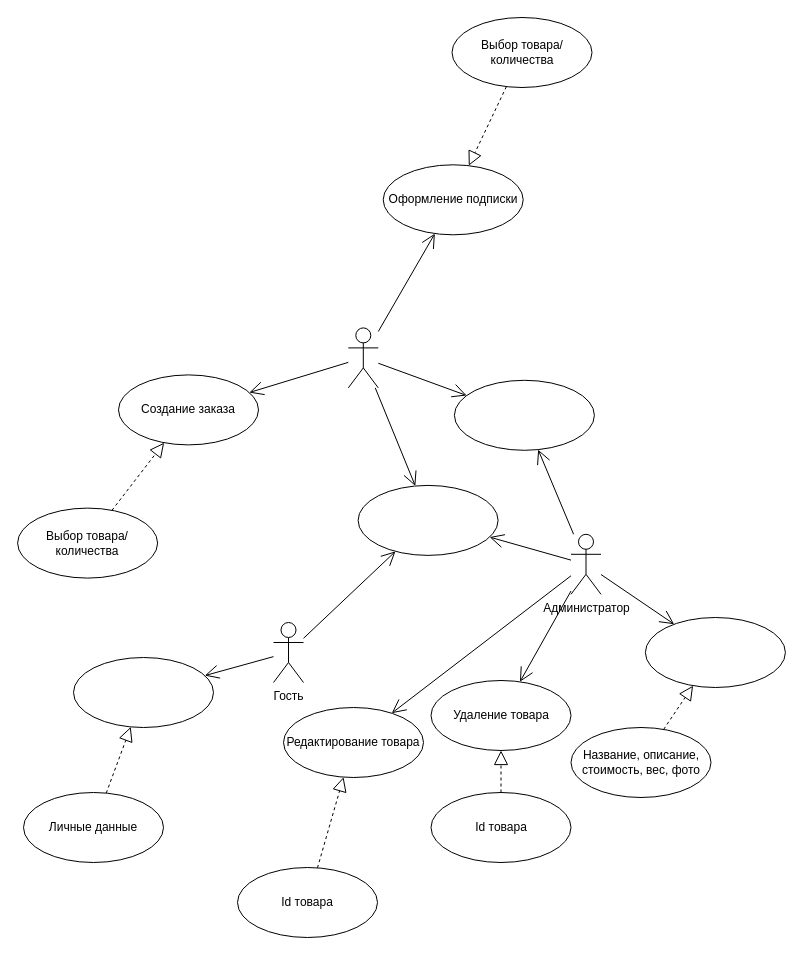
Some shapes in this 803 by 955 pixel diagram are drawn without their labels. Here are the shapes that lost their labels. From the top down, the box of each, then its label:
(347, 327, 378, 388): Клиент
(453, 379, 594, 450): Авторизация
(357, 484, 498, 555): Просмотр товаров
(644, 616, 785, 688): Добавление товара
(72, 656, 214, 728): Регистрация
